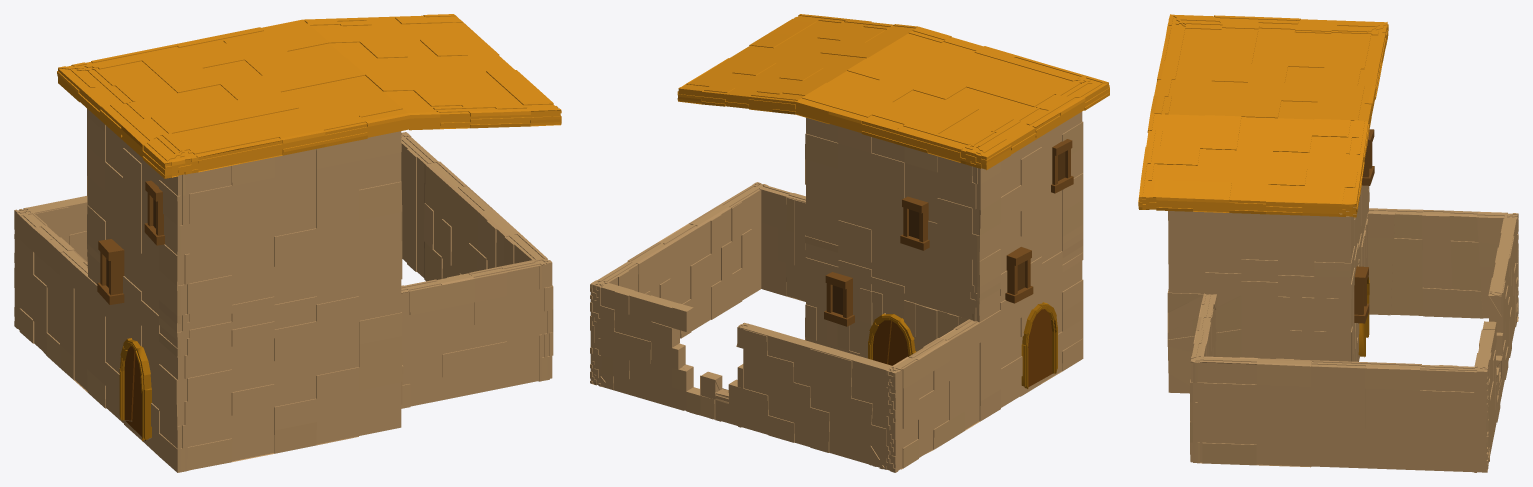
Rendered from ScrapYard_Building.fbx.
3 renders of one model, left to right at view 1: azimuth 30°, elevation 25°; view 2: azimuth 150°, elevation 25°; view 3: azimuth 270°, elevation 25°, orthographic. The views are drawn at different scales.
Visible parts, largest first — view 1: Cube.608, Cube.621, Cube.623, Cube.624; view 2: Cube.608, Cube.621, Cube.622, Cube.626, Cube.625, Cube.623, Cube.624; view 3: Cube.608, Cube.626, Cube.625, Cube.622.
Part boxes in pixels (<box>): Cube.608: <box>14,14,561,472</box>; Cube.621: <box>119,338,151,441</box>; Cube.623: <box>97,239,124,304</box>; Cube.624: <box>144,180,164,245</box>; Cube.608: <box>590,14,1109,472</box>; Cube.621: <box>1021,302,1057,388</box>; Cube.622: <box>868,313,916,365</box>; Cube.626: <box>824,272,854,326</box>; Cube.625: <box>900,196,929,250</box>; Cube.623: <box>1005,247,1033,303</box>; Cube.624: <box>1051,139,1073,193</box>; Cube.608: <box>1138,14,1518,472</box>; Cube.626: <box>1354,266,1369,323</box>; Cube.625: <box>1362,129,1374,185</box>; Cube.622: <box>1358,276,1369,357</box>.
Bounding box in the file's own units: 1389 × 1008 × 1240.
